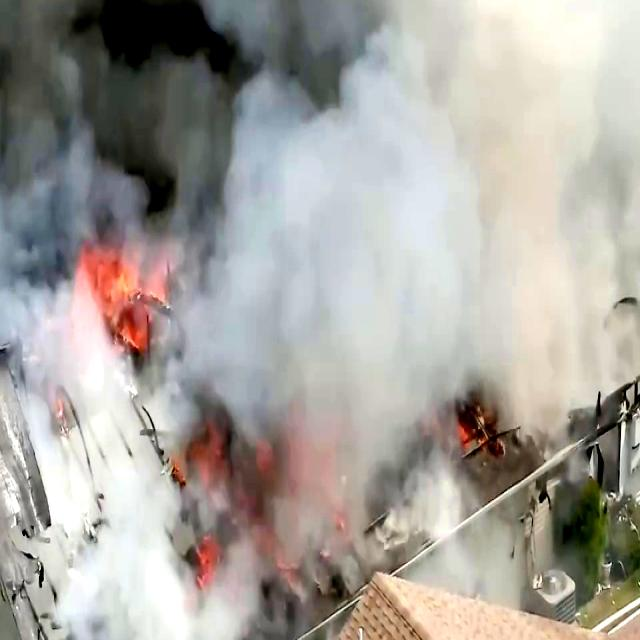fire: (69, 240, 187, 380)
smoke: (410, 0, 640, 336), (236, 104, 460, 406), (0, 0, 103, 284)
